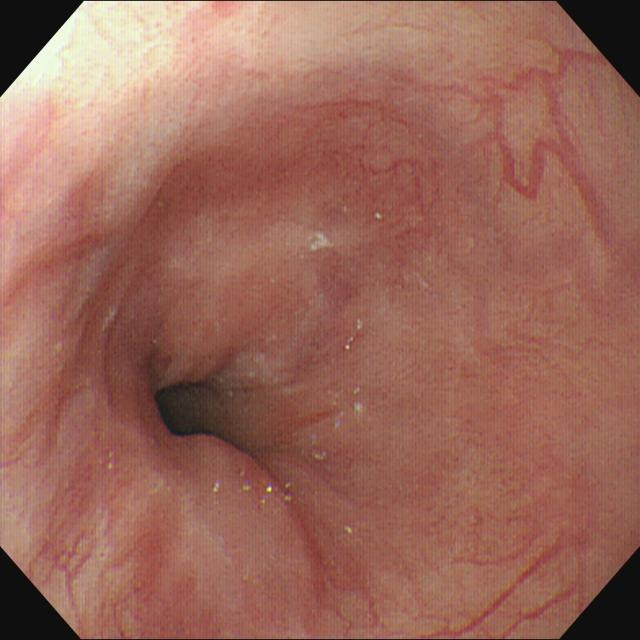E: (154, 377, 240, 450)
